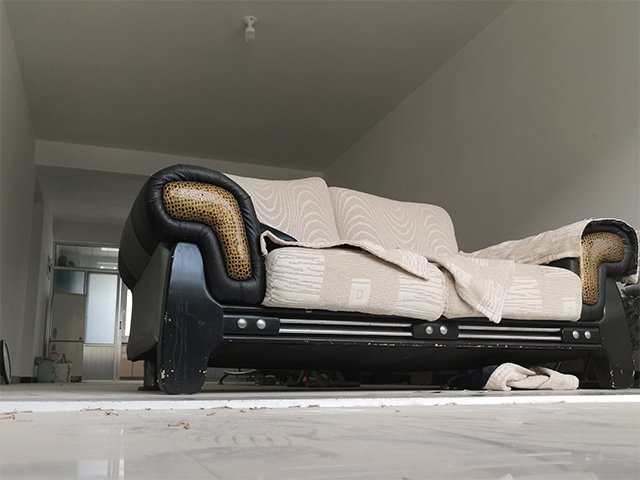sofa: (115, 162, 640, 397)
trashcan: (35, 357, 56, 384)
